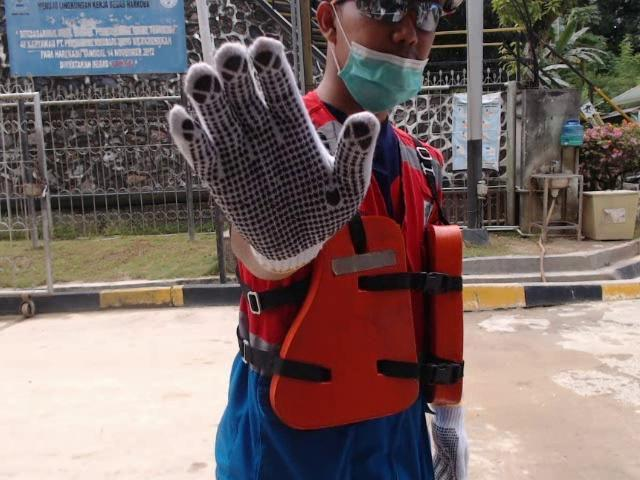vest: (272, 215, 468, 430)
